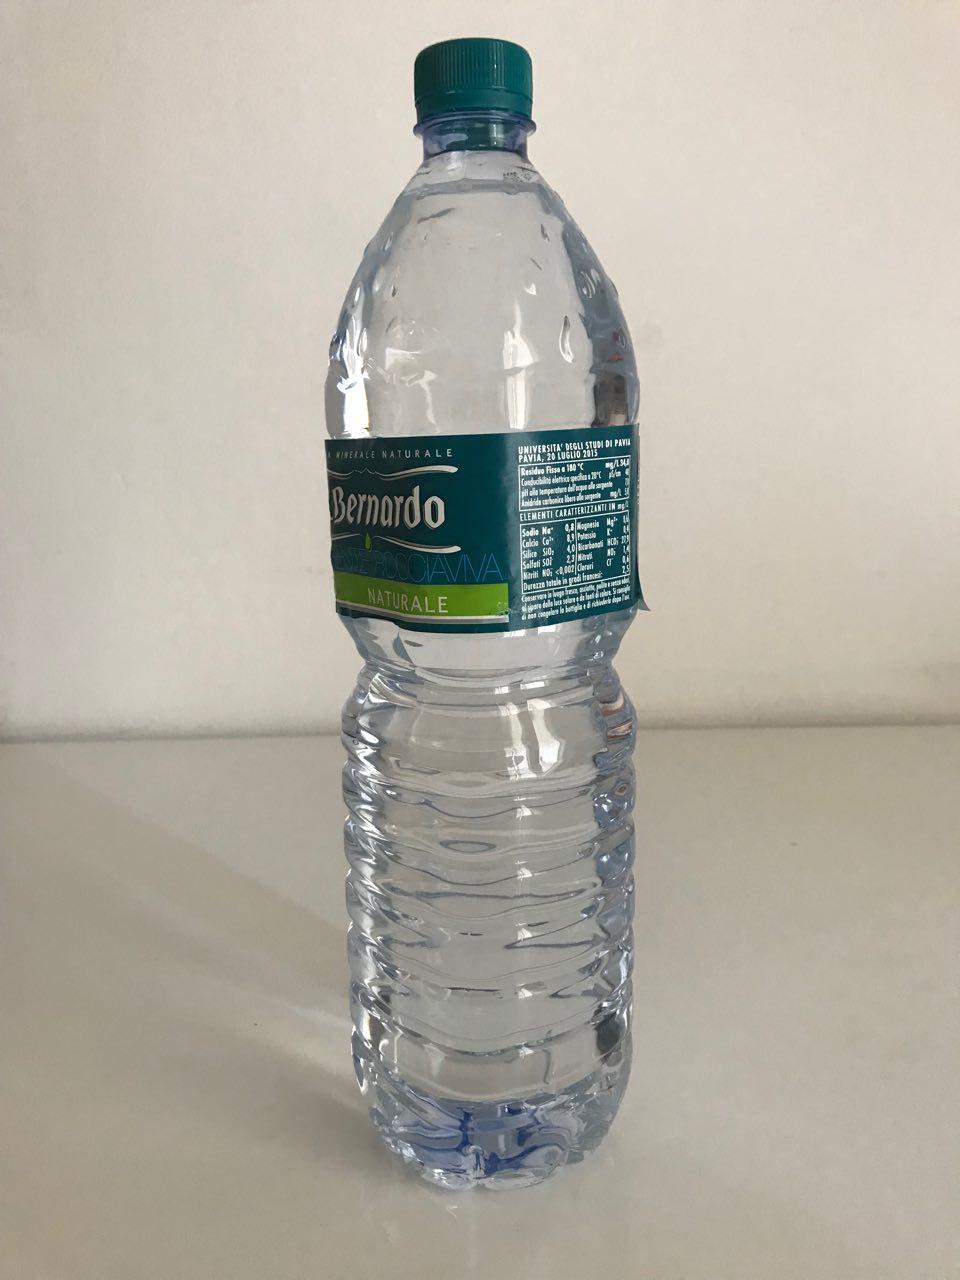san_bernardo: (323, 35, 644, 1198)
